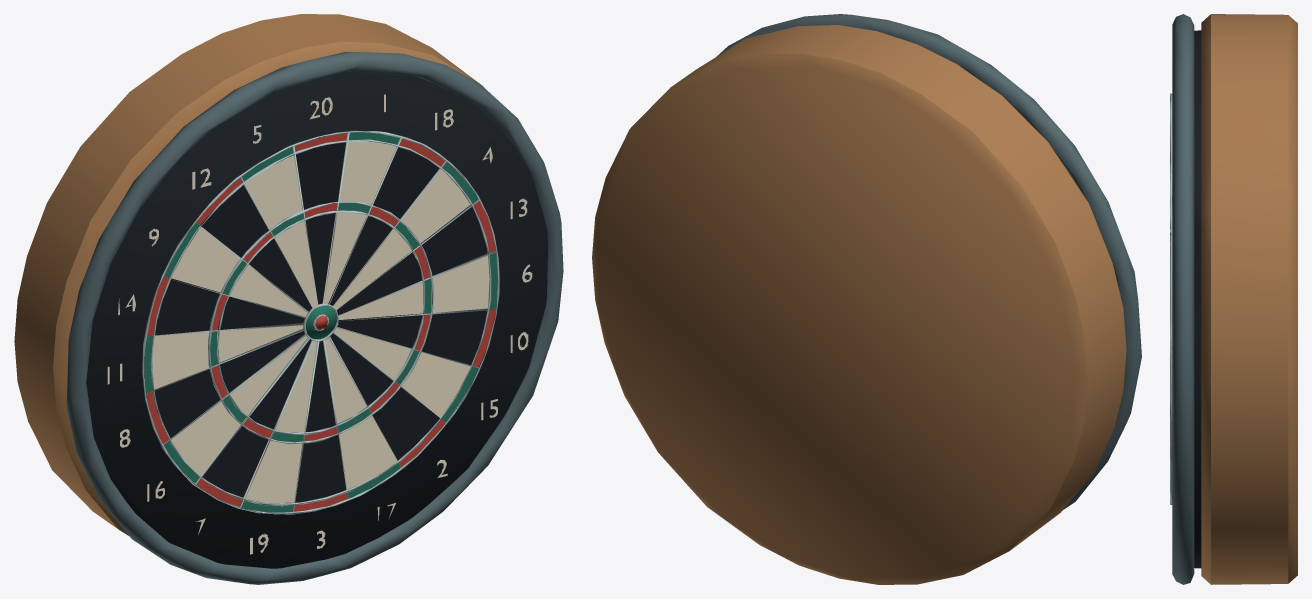
File: club-dartboard.low.glb
3 views of the same model, side by side, from view 1: azimuth 30°, elevation 25°; view 2: azimuth 150°, elevation 25°; view 3: azimuth 270°, elevation 25° (orthographic).
Visible parts, largest first — view 1: geometry:body:1, geometry:body:5, geometry:body:0, geometry:body:7, geometry:body:3, geometry:body:6, geometry:body:2, geometry:body:4; view 2: geometry:body:0, geometry:body:7; view 3: geometry:body:0, geometry:body:7, geometry:body:1, geometry:body:3.
Boxes of the visible parts, x1,y1,x2,y2 form: geometry:body:1: [86, 71, 547, 568]; geometry:body:5: [151, 142, 489, 502]; geometry:body:0: [14, 14, 484, 535]; geometry:body:7: [66, 52, 563, 584]; geometry:body:3: [142, 130, 499, 514]; geometry:body:6: [144, 132, 497, 512]; geometry:body:2: [145, 133, 495, 511]; geometry:body:4: [107, 94, 532, 554]; geometry:body:0: [592, 25, 1126, 584]; geometry:body:7: [716, 14, 1141, 509]; geometry:body:0: [1201, 14, 1297, 584]; geometry:body:7: [1172, 14, 1194, 584]; geometry:body:1: [1194, 30, 1201, 568]; geometry:body:3: [1170, 93, 1172, 504].
Size of the model in its own units: 0.474 by 0.474 by 0.106.
